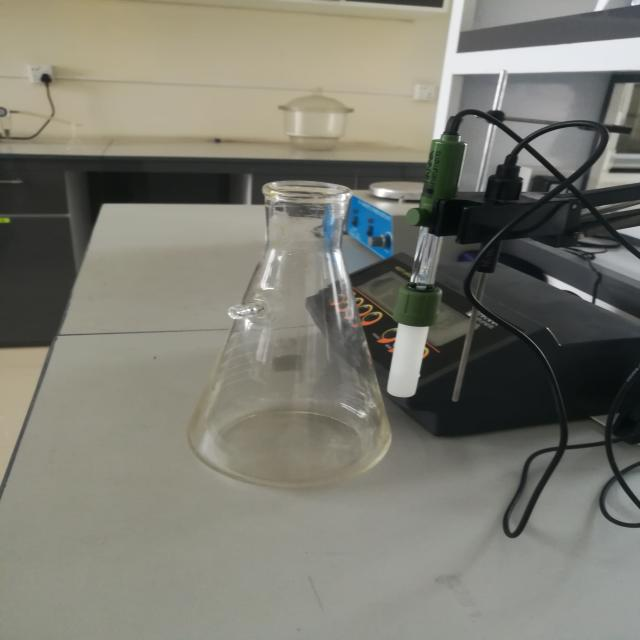Conical_Flask: (104, 152, 432, 502)
